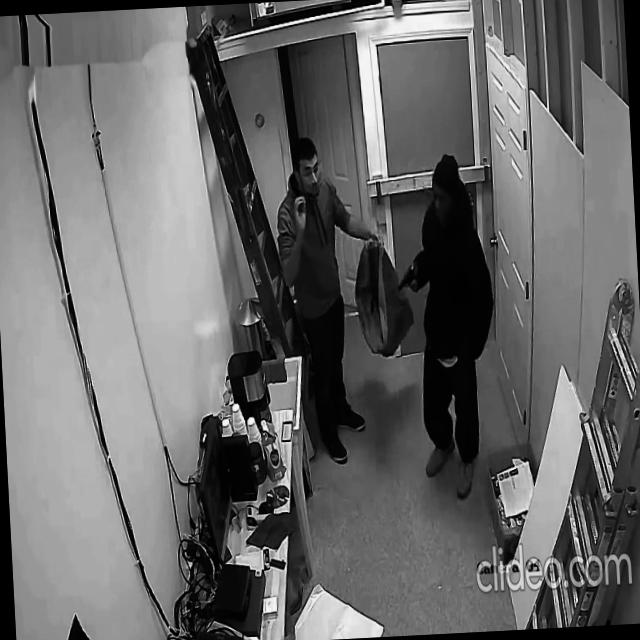gun: (396, 262, 416, 292)
person: (272, 132, 393, 468), (402, 151, 505, 502)
person with a gun: (392, 150, 506, 501)
